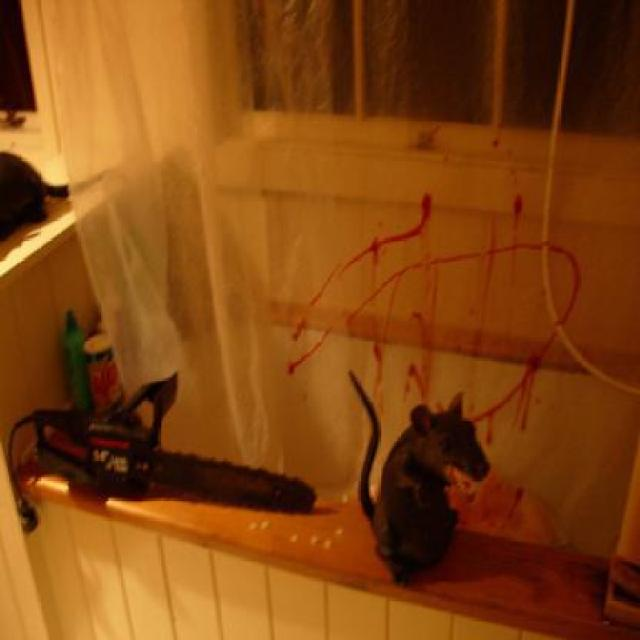Chainsaw: (7, 368, 316, 534)
